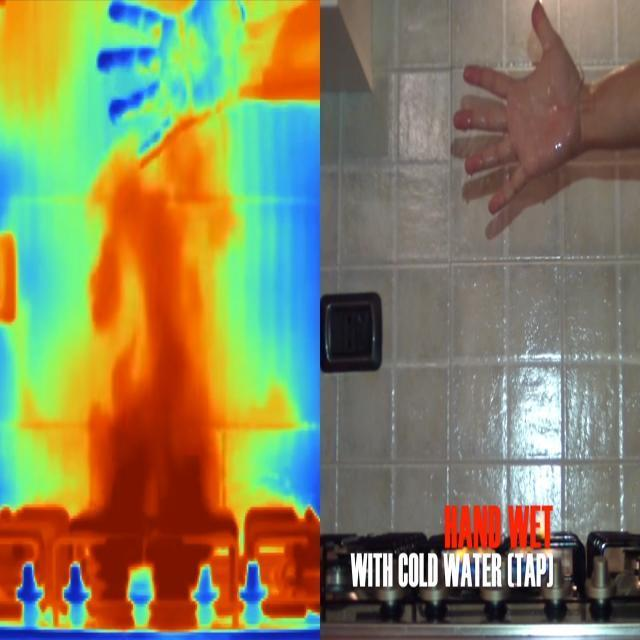fire: (69, 413, 223, 600)
